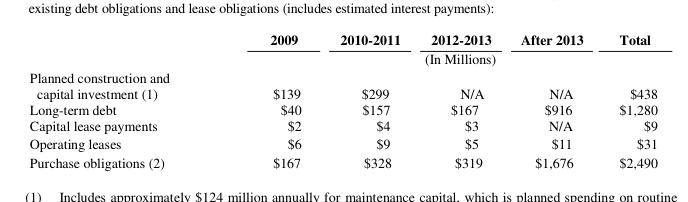table: (28, 29, 657, 170)
table column: (28, 29, 216, 170), (216, 29, 320, 170), (320, 29, 415, 170), (505, 29, 600, 170), (415, 29, 505, 170), (600, 29, 657, 170)
table column header: (28, 29, 657, 67)
table projected row header: (28, 67, 657, 84)
table row: (28, 29, 657, 48), (28, 48, 657, 67), (28, 151, 657, 170), (28, 133, 657, 151), (28, 67, 657, 84), (28, 116, 657, 133), (28, 84, 657, 100), (28, 100, 657, 116)
table spanning cell: (216, 48, 657, 67)
